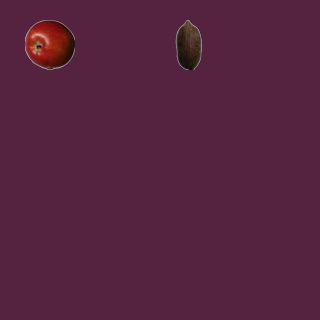Apple Braeburn: (24, 19, 74, 69)
Nut Pecan: (163, 19, 213, 69)
